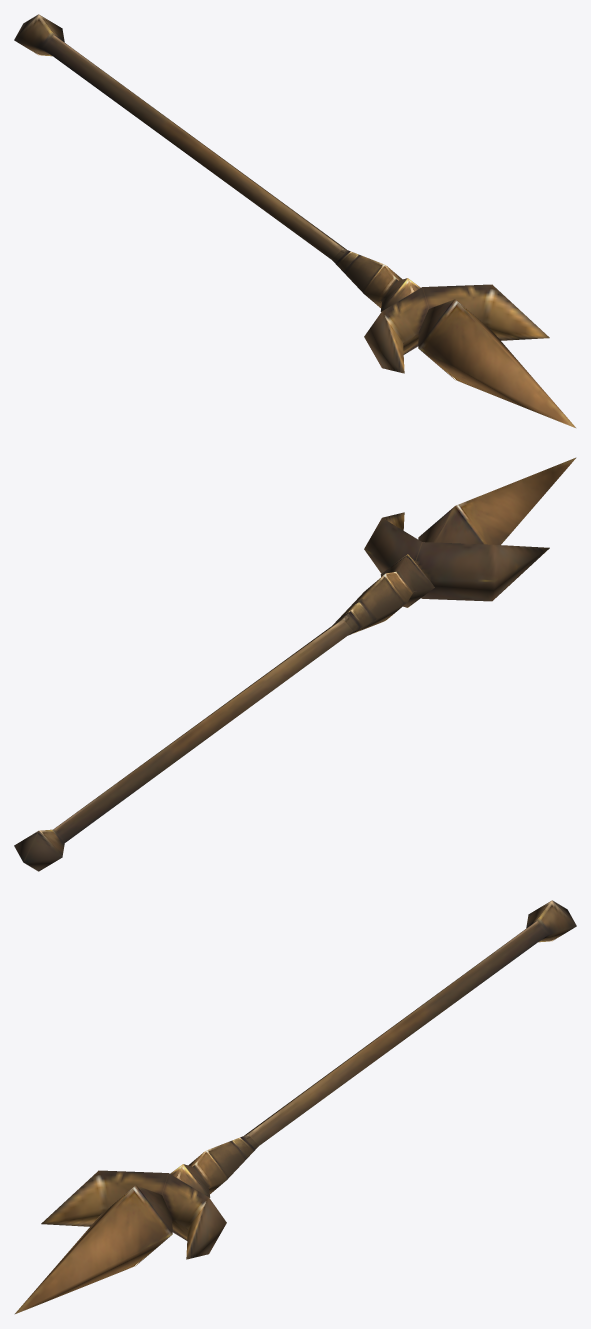
Rendered from leiyinsishibing_weapon.FBX.
3 renders of one model, top to bottom at view 1: azimuth 30°, elevation 25°; view 2: azimuth 150°, elevation 25°; view 3: azimuth 330°, elevation 25°, orthographic.
Parts seen in each view (by area): view 1: leiyinsishibing_weapon; view 2: leiyinsishibing_weapon; view 3: leiyinsishibing_weapon.
Boxes of the visible parts, x1,y1,x2,y2 form: leiyinsishibing_weapon: (14,14,576,428); leiyinsishibing_weapon: (14,457,576,871); leiyinsishibing_weapon: (14,900,576,1314).
Bounding box in the file's own units: 0.3769 × 2.48 × 0.2002.
